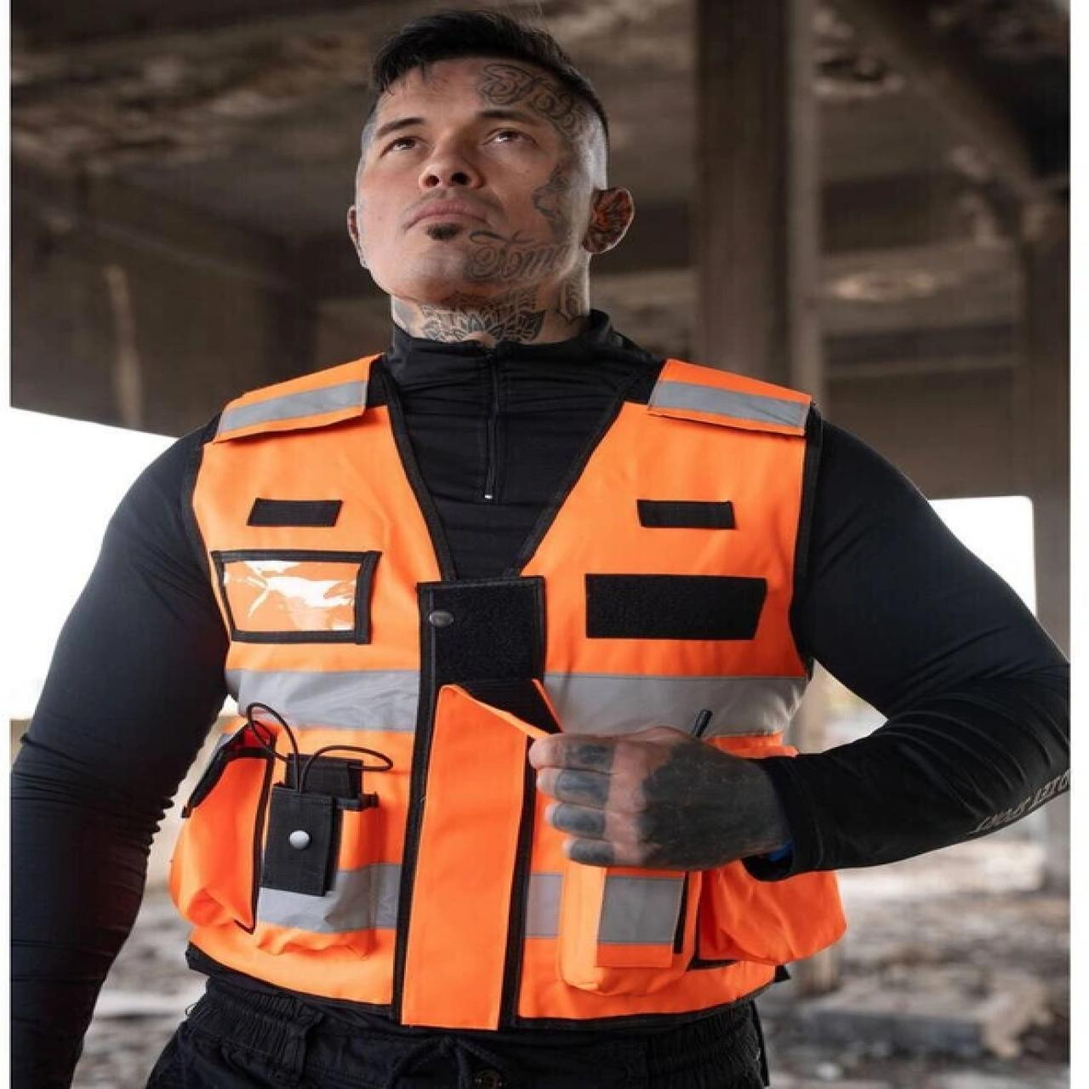Person: (8, 0, 1059, 1087)
Safety_Vest: (155, 350, 875, 1034)
